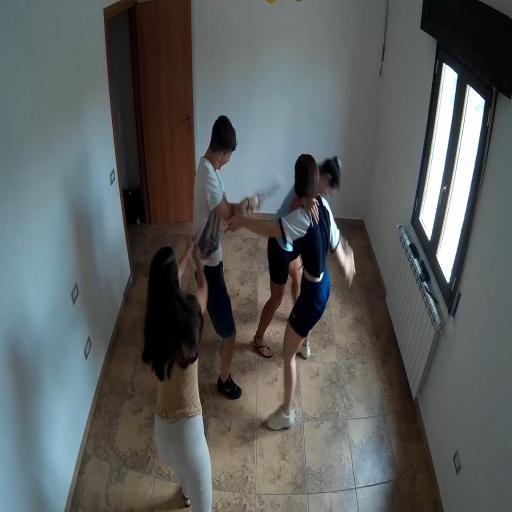violencia: (180, 94, 364, 441), (134, 106, 266, 510)
